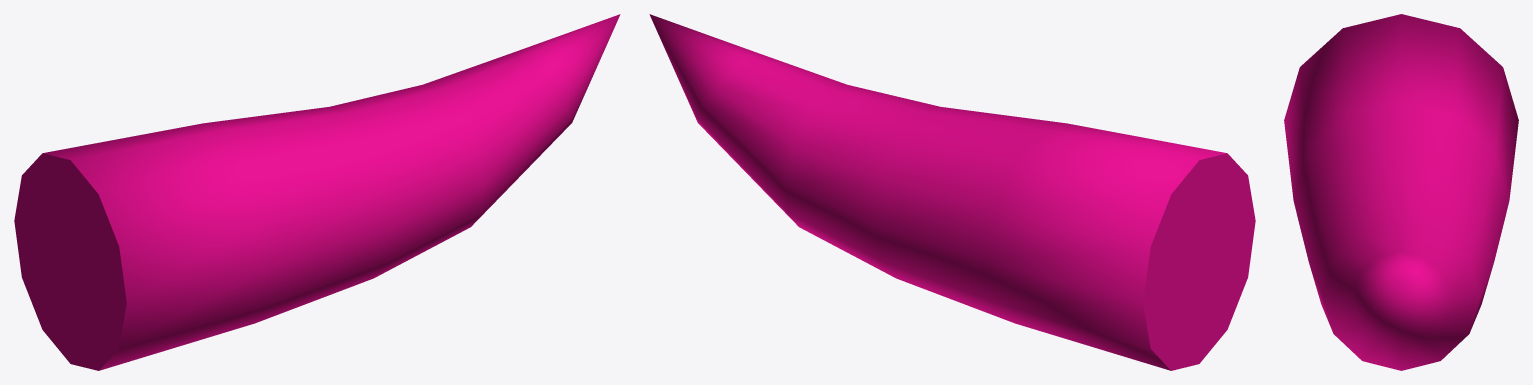
File: Horn.glb
3 views of the same model, side by side, from view 1: azimuth 30°, elevation 25°; view 2: azimuth 150°, elevation 25°; view 3: azimuth 270°, elevation 25° (orthographic). The views are drawn at different scales.
Parts seen in each view (by area): view 1: Horn; view 2: Horn; view 3: Horn.
Part boxes in pixels (x1=…): Horn: x1=14, y1=14, x2=620, y2=370; Horn: x1=649, y1=14, x2=1255, y2=370; Horn: x1=1284, y1=14, x2=1518, y2=370.
Bounding box in the file's own units: 1.36 × 0.5098 × 0.4816.
